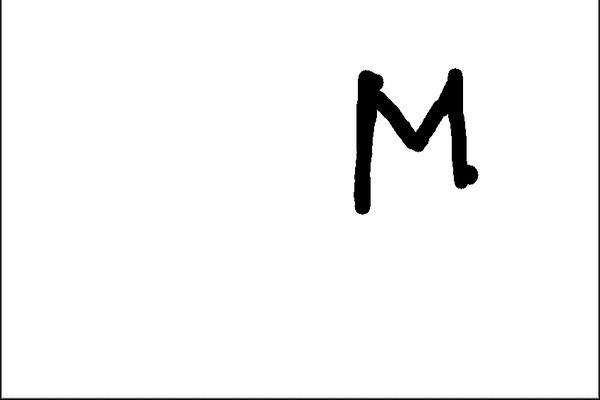M: (351, 59, 477, 216)
